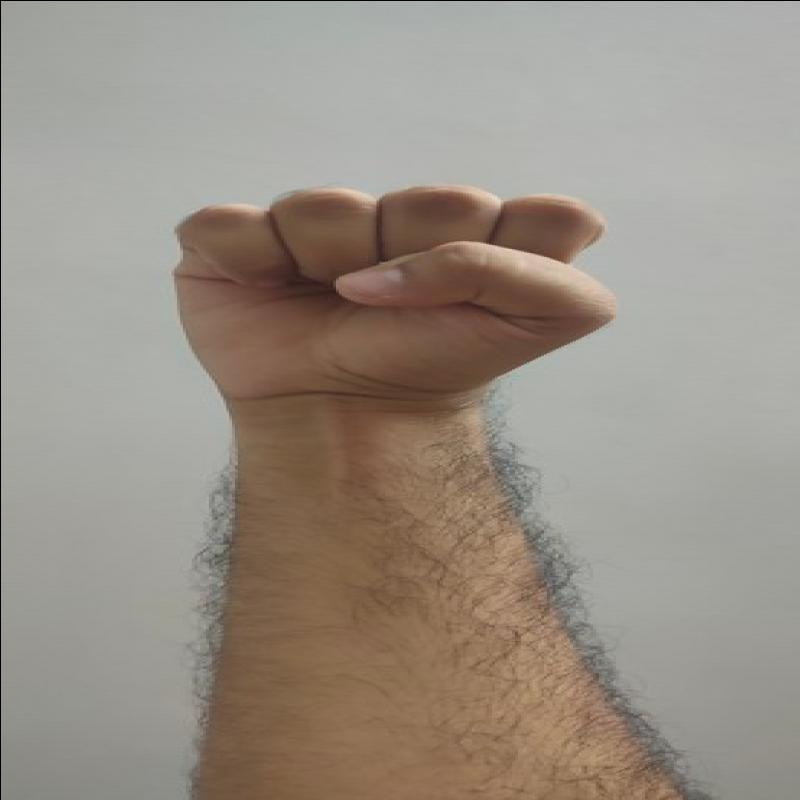Mushti: (149, 166, 637, 411)
